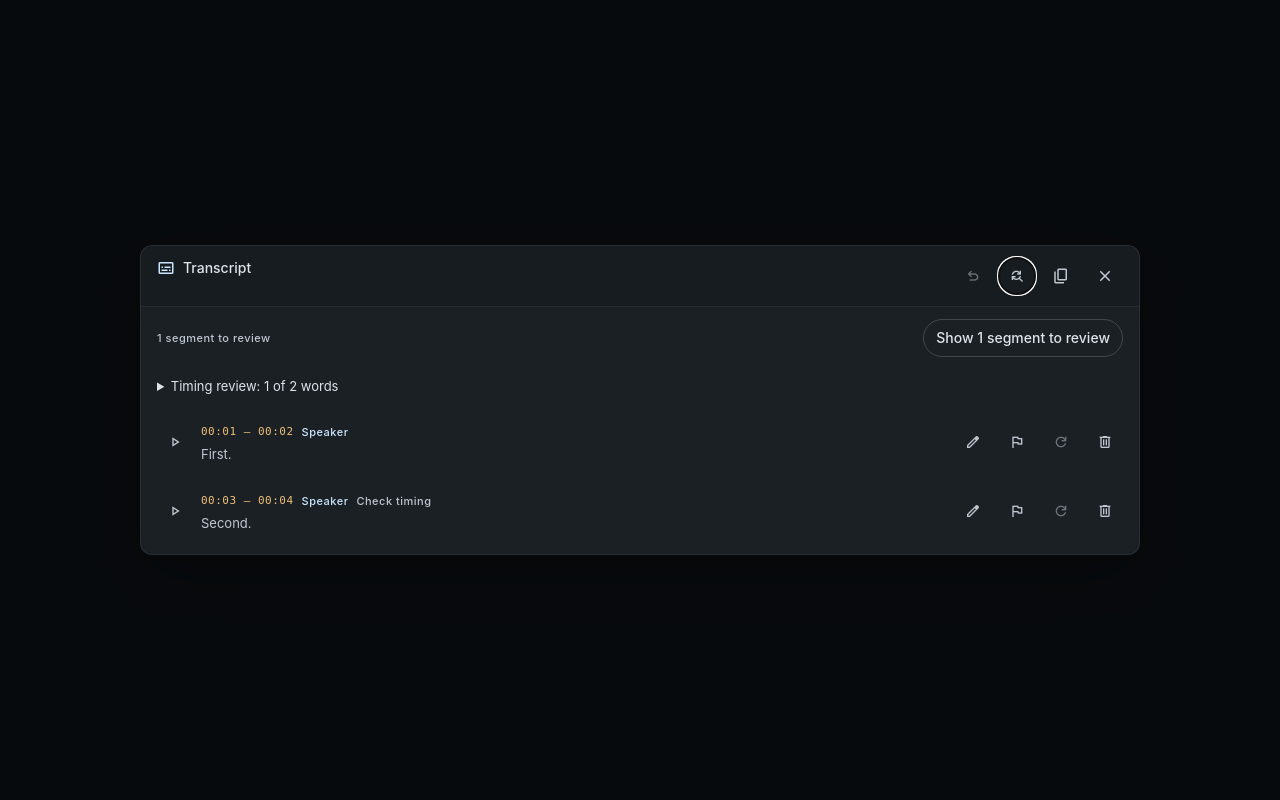
Test: TranscriptPanel › offers timing review without changing segment indices or labelling other engines
Expected: the heading "Timing review: 1 of 2 words" is shown, [171,378,338,394]
Click the button "Show 1 segment to review" at [1023, 338], box [923,319,1123,357]
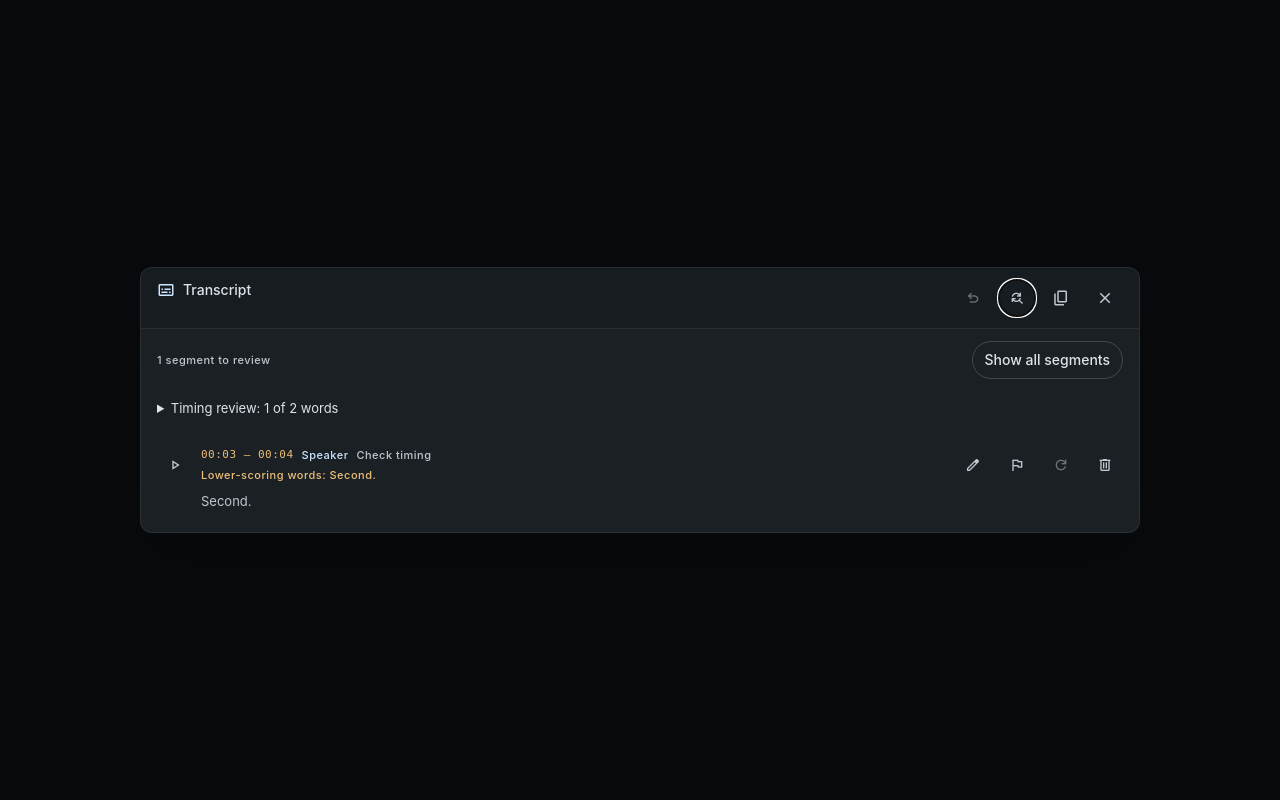
Expected: the element that starts with "Speaker" shows "Lower-scoring words: Second.", [201,468,376,482]
Click the button titled "Edit segment 2" at [973, 465], box [955,447,991,483]
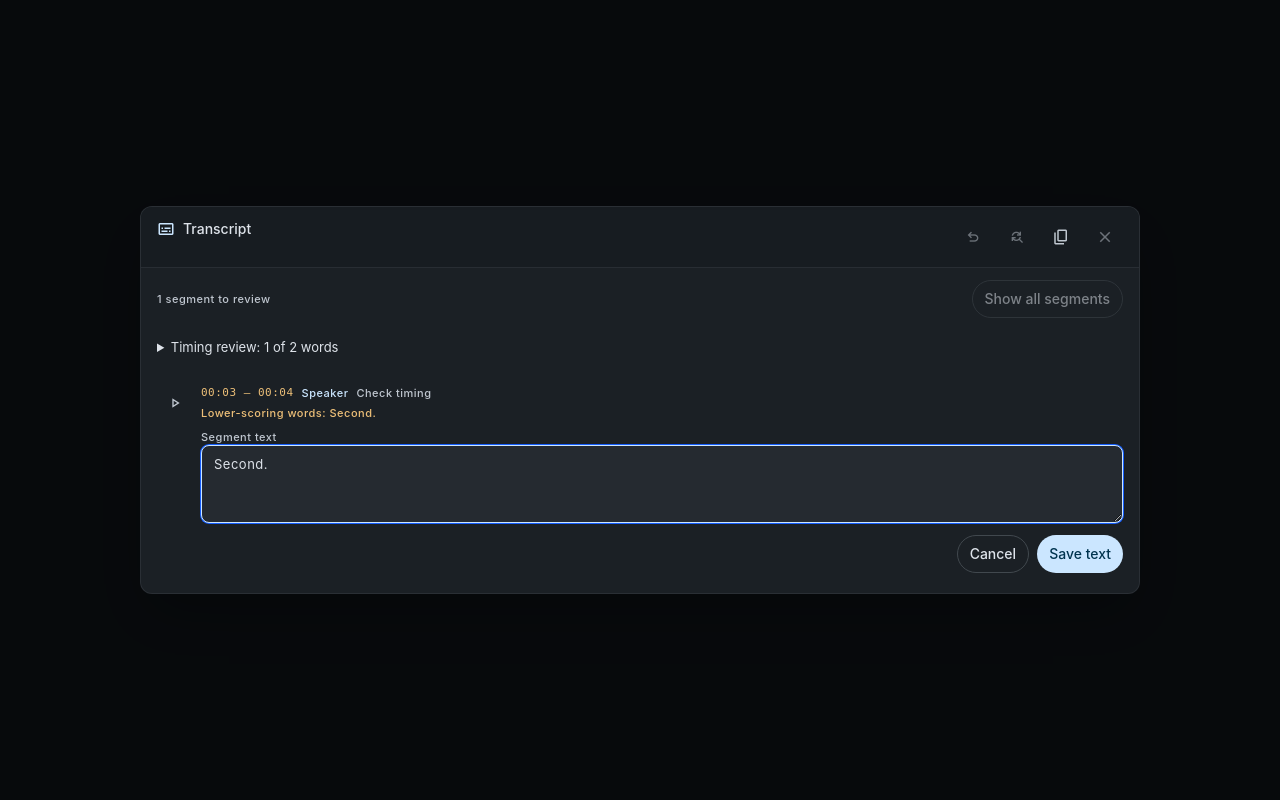
Expected: the text box labelled "Segment text" holds "Second.", [201,445,1123,523]
